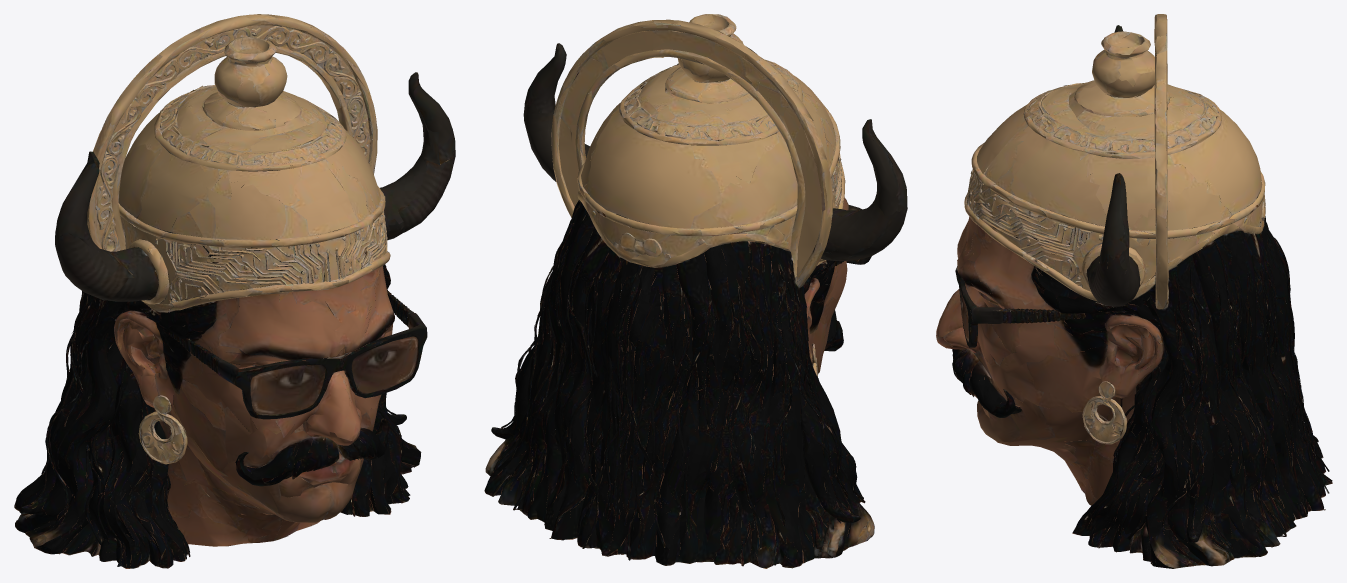
The model's file is head-engineer-web.glb.
The picture shows the model from 3 angles, left to right: view 1: azimuth 30°, elevation 25°; view 2: azimuth 150°, elevation 25°; view 3: azimuth 270°, elevation 25°; orthographic projection. The views are drawn at different scales.
Visible parts, largest first — view 1: mesh_node; view 2: mesh_node; view 3: mesh_node.
Boxes of the visible parts, <box> form: mesh_node: <box>14,14,455,568</box>; mesh_node: <box>484,14,907,568</box>; mesh_node: <box>936,14,1332,568</box>.
Size of the model in its own units: 1.62 by 1.9 by 1.5.
1 material, 1 textured.
